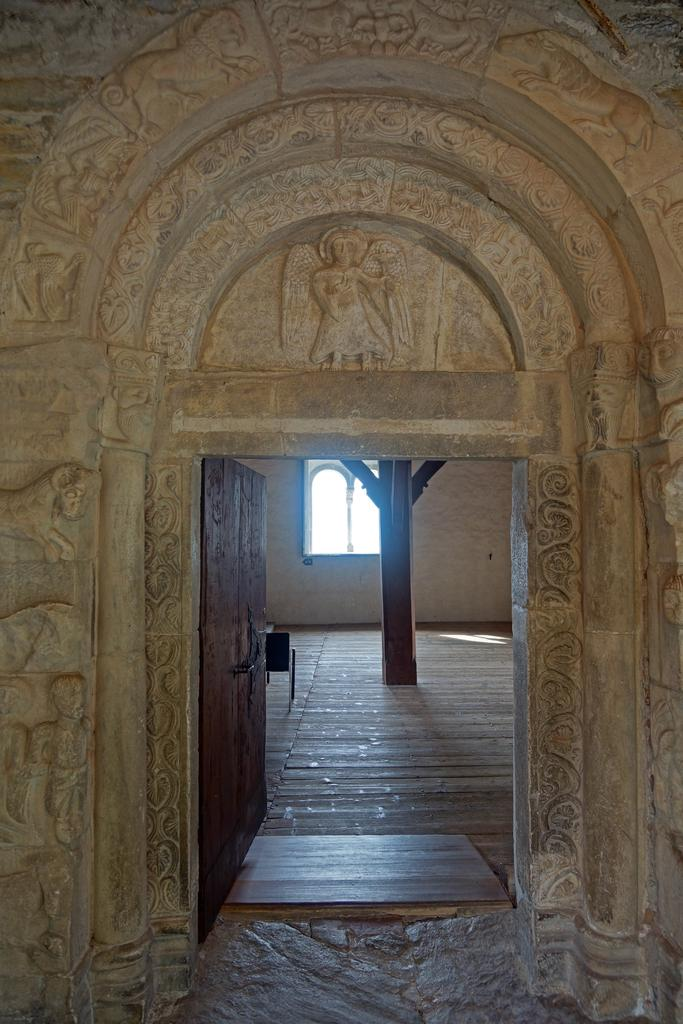handle: (240, 622, 262, 676)
